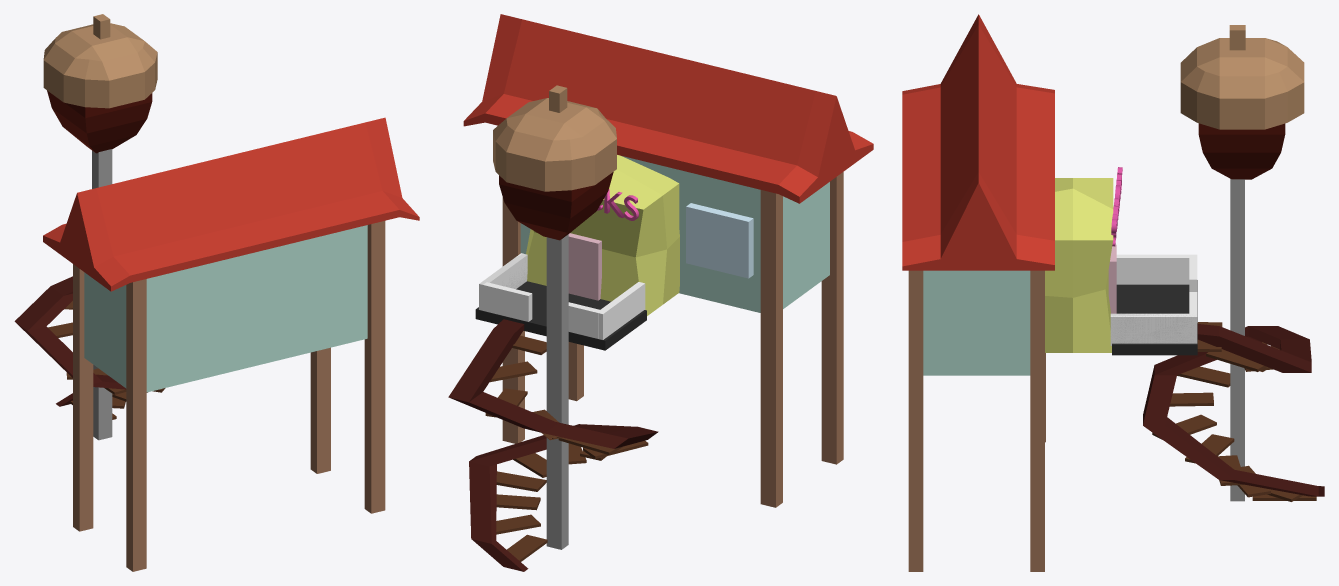
Rendered from cukiernia.fbx.
The picture shows the model from 3 angles, left to right: view 1: azimuth 30°, elevation 25°; view 2: azimuth 150°, elevation 25°; view 3: azimuth 270°, elevation 25°; orthographic projection. The views are drawn at different scales.
Parts seen in each view (by area): view 1: Cube.017, Cube.016, Cube.019, Cube.029, Cube.027, Cube, Cube.026, Cube.001; view 2: Cube.017, Cube.019, Cube.016, Cube.015, Cube.029, Cube, Cube.026, Cube.001, Cube.022, Cube.002, Cube.027, Cube.014 (+2 smaller); view 3: Cube.017, Cube.016, Cube.015, Cube.029, Cube.019, Cube, Cube.022, Cube.001, Cube.026, Cube.027, Cube.014, Cube.025 (+1 smaller).
Part boxes in pixels (<box>): Cube.017: <box>43,117,419,291</box>; Cube.016: <box>84,225,367,392</box>; Cube.019: <box>73,221,385,571</box>; Cube.029: <box>43,14,157,108</box>; Cube.027: <box>47,90,152,153</box>; Cube: <box>14,276,126,406</box>; Cube.026: <box>92,149,112,440</box>; Cube.001: <box>48,301,165,419</box>; Cube.017: <box>463,14,873,203</box>; Cube.019: <box>502,172,843,507</box>; Cube.016: <box>520,156,829,312</box>; Cube.015: <box>526,155,679,315</box>; Cube.029: <box>493,85,616,191</box>; Cube: <box>448,319,658,571</box>; Cube.026: <box>546,234,568,549</box>; Cube.001: <box>485,335,648,561</box>; Cube.022: <box>479,253,645,339</box>; Cube.002: <box>686,203,753,278</box>; Cube.027: <box>499,172,613,240</box>; Cube.014: <box>475,281,646,350</box>; Cube.017: <box>902,14,1054,270</box>; Cube.016: <box>923,270,1030,375</box>; Cube.015: <box>1045,178,1113,352</box>; Cube.029: <box>1180,25,1304,129</box>; Cube.019: <box>908,270,1045,571</box>; Cube: <box>1143,324,1324,496</box>; Cube.022: <box>1110,254,1197,345</box>; Cube.001: <box>1152,322,1316,501</box>; Cube.026: <box>1230,179,1244,501</box>; Cube.027: <box>1198,123,1285,179</box>; Cube.014: <box>1112,280,1197,355</box>; Cube.025: <box>1110,313,1195,343</box>.
Size of the model in its own units: 923 by 1198 by 976.
